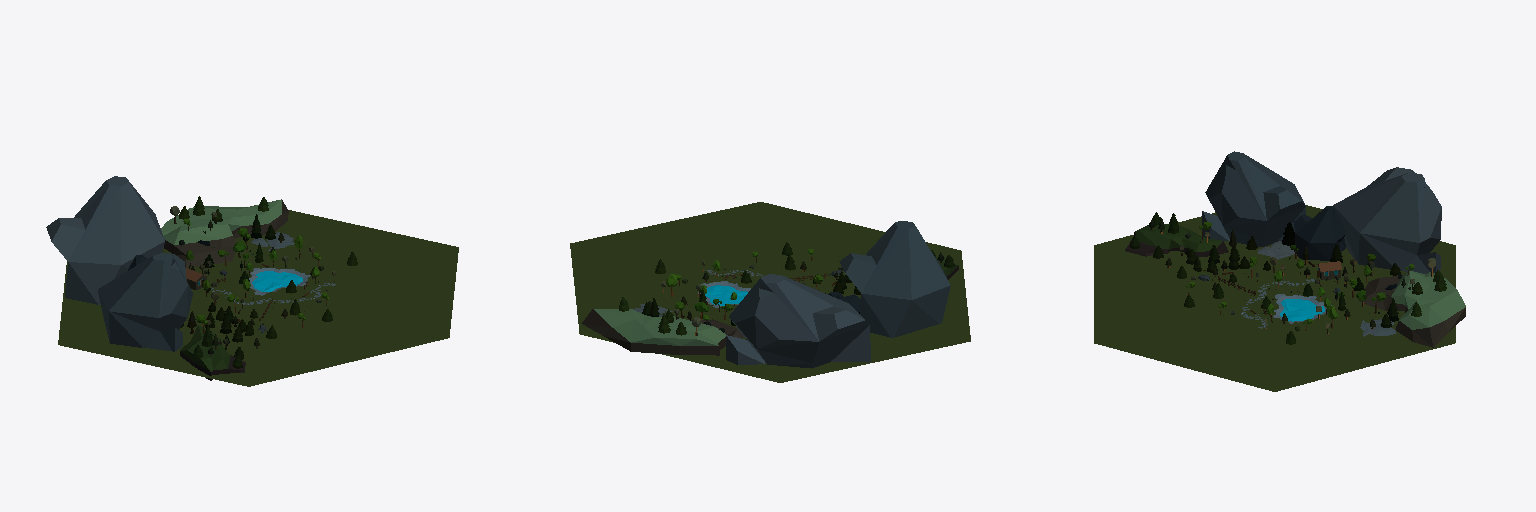
The model's file is zapeceny.obj.
3 renders of one model, left to right at view 1: azimuth 30°, elevation 25°; view 2: azimuth 150°, elevation 25°; view 3: azimuth 270°, elevation 25°, orthographic.
Parts seen in each view (by area): view 1: Mesh727 G_3DGeom_5 Assembly_1 SimLab_skp Assembly_2 Model, Mesh448 G_3DGeom_9_3 Part_84 Assembly_1 SimLab_skp Assembly_2 Mo, Mesh435 G_3DGeom_9_2 Part_26 Assembly_1 SimLab_skp Assembly_2 Mo, Mesh460 G_3DGeom_7_1 Assembly_116 Assembly_1 SimLab_skp Assembly, Mesh461 G_3DGeom_8_1 Assembly_116 Assembly_1 SimLab_skp Assembly, Mesh431 G_3DGeom_7 Assembly_3 Assembly_1 SimLab_skp Assembly_2 M, Mesh723 G_3DGeom_2 Assembly_1 SimLab_skp Assembly_2 Model; view 2: Mesh727 G_3DGeom_5 Assembly_1 SimLab_skp Assembly_2 Model, Mesh448 G_3DGeom_9_3 Part_84 Assembly_1 SimLab_skp Assembly_2 Mo, Mesh435 G_3DGeom_9_2 Part_26 Assembly_1 SimLab_skp Assembly_2 Mo, Mesh460 G_3DGeom_7_1 Assembly_116 Assembly_1 SimLab_skp Assembly, Mesh461 G_3DGeom_8_1 Assembly_116 Assembly_1 SimLab_skp Assembly, Mesh723 G_3DGeom_2 Assembly_1 SimLab_skp Assembly_2 Model; view 3: Mesh727 G_3DGeom_5 Assembly_1 SimLab_skp Assembly_2 Model, Mesh448 G_3DGeom_9_3 Part_84 Assembly_1 SimLab_skp Assembly_2 Mo, Mesh435 G_3DGeom_9_2 Part_26 Assembly_1 SimLab_skp Assembly_2 Mo, Mesh460 G_3DGeom_7_1 Assembly_116 Assembly_1 SimLab_skp Assembly, Mesh434 G_3DGeom_9_1 Part_12 Assembly_1 SimLab_skp Assembly_2 Mo, Mesh461 G_3DGeom_8_1 Assembly_116 Assembly_1 SimLab_skp Assembly, Mesh431 G_3DGeom_7 Assembly_3 Assembly_1 SimLab_skp Assembly_2 M, Mesh723 G_3DGeom_2 Assembly_1 SimLab_skp Assembly_2 Model.
Part boxes in pixels (left/top/right/bottom): Mesh727 G_3DGeom_5 Assembly_1 SimLab_skp Assembly_2 Model: left=58, top=210, right=458, bottom=386; Mesh448 G_3DGeom_9_3 Part_84 Assembly_1 SimLab_skp Assembly_2 Mo: left=46, top=176, right=164, bottom=304; Mesh435 G_3DGeom_9_2 Part_26 Assembly_1 SimLab_skp Assembly_2 Mo: left=98, top=253, right=192, bottom=351; Mesh460 G_3DGeom_7_1 Assembly_116 Assembly_1 SimLab_skp Assembly: left=161, top=199, right=281, bottom=244; Mesh461 G_3DGeom_8_1 Assembly_116 Assembly_1 SimLab_skp Assembly: left=164, top=200, right=288, bottom=267; Mesh431 G_3DGeom_7 Assembly_3 Assembly_1 SimLab_skp Assembly_2 M: left=180, top=325, right=230, bottom=371; Mesh723 G_3DGeom_2 Assembly_1 SimLab_skp Assembly_2 Model: left=252, top=271, right=302, bottom=291; Mesh727 G_3DGeom_5 Assembly_1 SimLab_skp Assembly_2 Model: left=570, top=202, right=970, bottom=382; Mesh448 G_3DGeom_9_3 Part_84 Assembly_1 SimLab_skp Assembly_2 Mo: left=726, top=274, right=870, bottom=368; Mesh435 G_3DGeom_9_2 Part_26 Assembly_1 SimLab_skp Assembly_2 Mo: left=839, top=221, right=950, bottom=337; Mesh460 G_3DGeom_7_1 Assembly_116 Assembly_1 SimLab_skp Assembly: left=594, top=309, right=725, bottom=345; Mesh461 G_3DGeom_8_1 Assembly_116 Assembly_1 SimLab_skp Assembly: left=582, top=309, right=743, bottom=355; Mesh723 G_3DGeom_2 Assembly_1 SimLab_skp Assembly_2 Model: left=705, top=285, right=747, bottom=305; Mesh727 G_3DGeom_5 Assembly_1 SimLab_skp Assembly_2 Model: left=1094, top=205, right=1455, bottom=391; Mesh448 G_3DGeom_9_3 Part_84 Assembly_1 SimLab_skp Assembly_2 Mo: left=1333, top=167, right=1441, bottom=273; Mesh435 G_3DGeom_9_2 Part_26 Assembly_1 SimLab_skp Assembly_2 Mo: left=1202, top=151, right=1305, bottom=246; Mesh460 G_3DGeom_7_1 Assembly_116 Assembly_1 SimLab_skp Assembly: left=1391, top=271, right=1465, bottom=329; Mesh434 G_3DGeom_9_1 Part_12 Assembly_1 SimLab_skp Assembly_2 Mo: left=1294, top=206, right=1345, bottom=260; Mesh461 G_3DGeom_8_1 Assembly_116 Assembly_1 SimLab_skp Assembly: left=1359, top=275, right=1465, bottom=347; Mesh431 G_3DGeom_7 Assembly_3 Assembly_1 SimLab_skp Assembly_2 M: left=1132, top=224, right=1222, bottom=251; Mesh723 G_3DGeom_2 Assembly_1 SimLab_skp Assembly_2 Model: left=1280, top=299, right=1324, bottom=321.
Size of the model in its own units: 103 by 21.22 by 82.5.